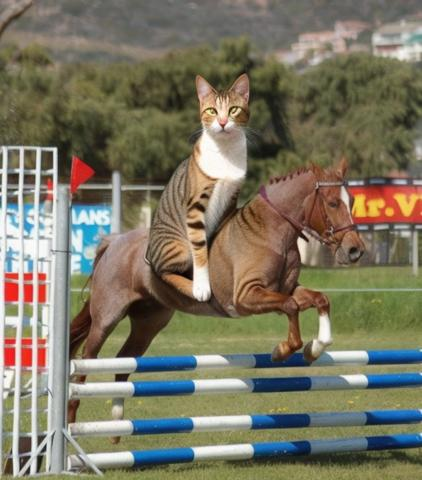cat: (149, 71, 267, 303)
horse: (64, 159, 367, 446)
